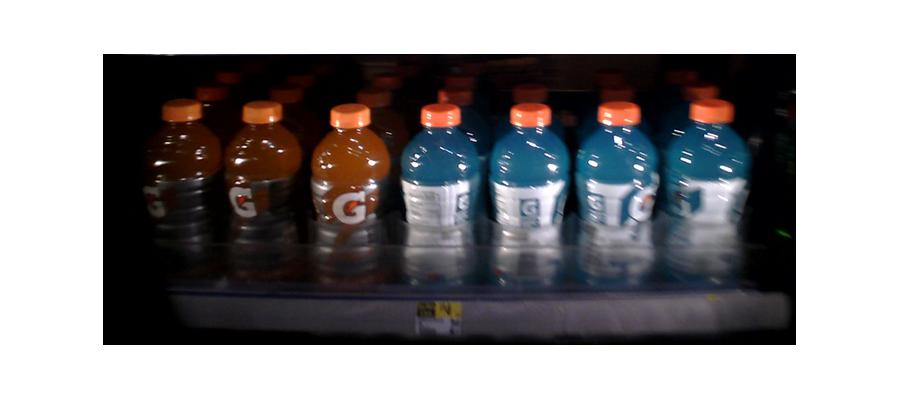bottle: (661, 102, 747, 294), (489, 100, 570, 294), (575, 100, 658, 289), (309, 102, 388, 294), (400, 108, 481, 292), (139, 97, 218, 280), (223, 98, 296, 288)
